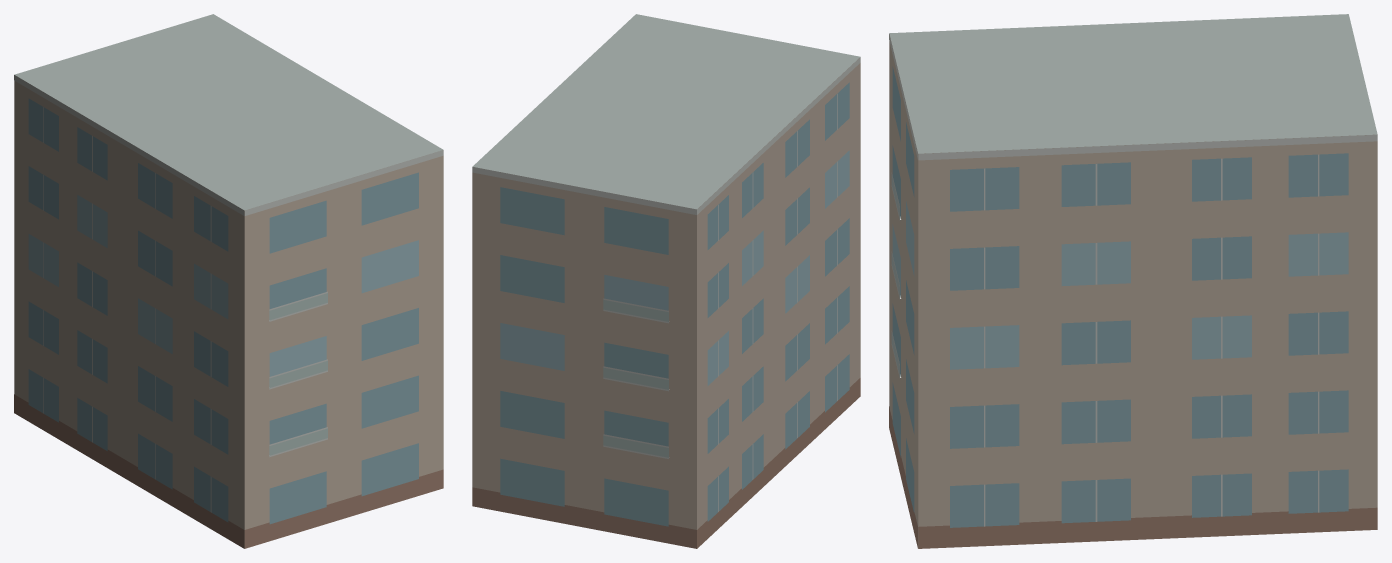
The model's file is survey-upis-32637550.glb.
3 renders of one model, left to right at view 1: azimuth 30°, elevation 25°; view 2: azimuth 150°, elevation 25°; view 3: azimuth 270°, elevation 25°, orthographic. The views are drawn at different scales.
Parts seen in each view (by area): view 1: survey-upis-32637550.tmp; view 2: survey-upis-32637550.tmp; view 3: survey-upis-32637550.tmp.
Part boxes in pixels (box(x1,y1,x2,y2)): survey-upis-32637550.tmp: box(14, 14, 443, 548); survey-upis-32637550.tmp: box(472, 14, 860, 548); survey-upis-32637550.tmp: box(889, 14, 1377, 548).
Bounding box in the file's own units: 10.85 × 14.3 × 16.03.
